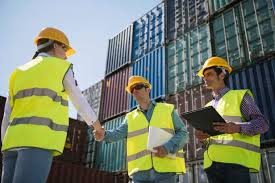helmet: (37, 24, 78, 52), (198, 54, 230, 76), (125, 74, 150, 91)
vest: (1, 62, 68, 151), (200, 96, 270, 169), (127, 110, 187, 173)
